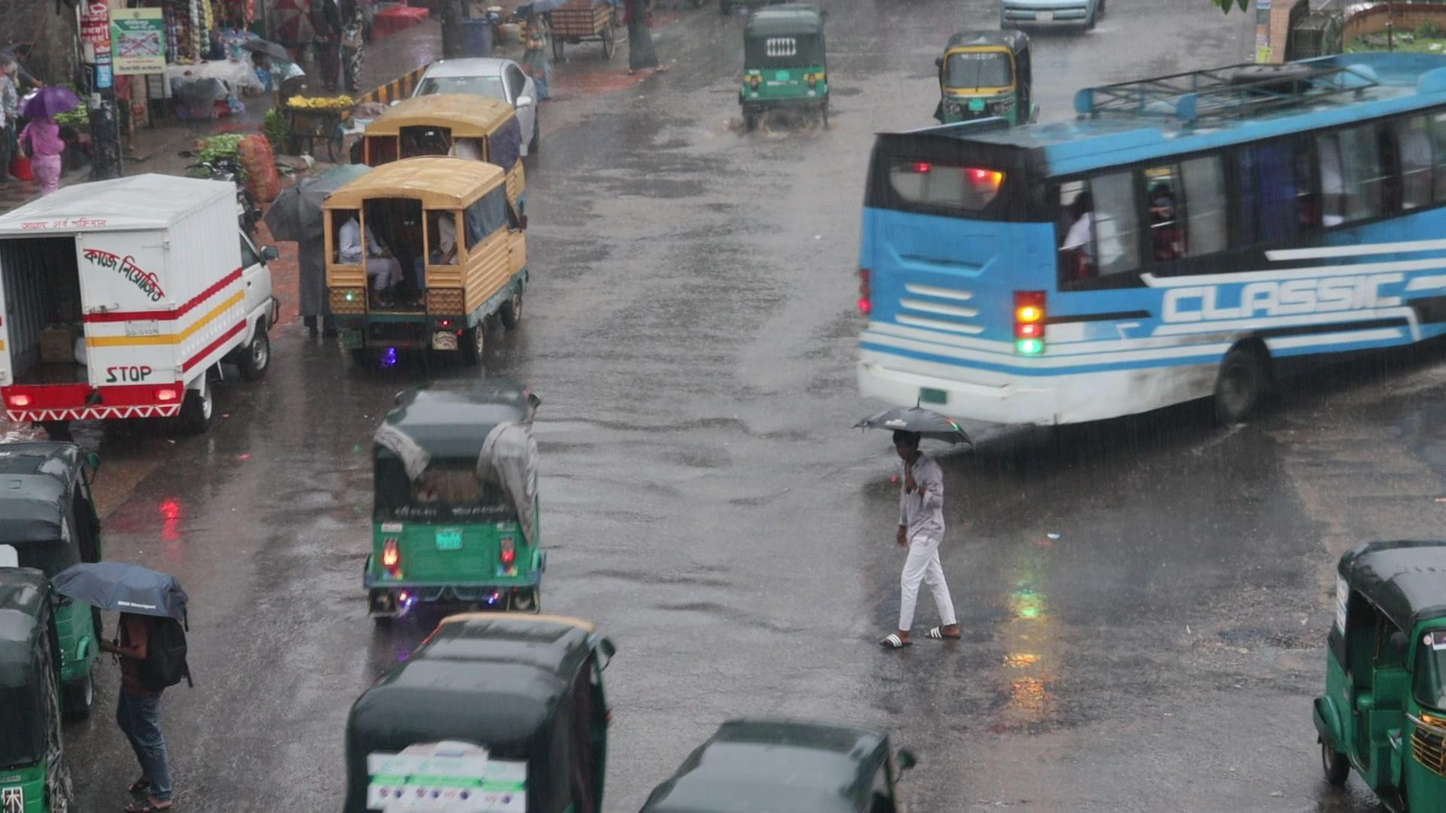Bus: (853, 41, 1446, 440)
Truck: (309, 155, 522, 384)
